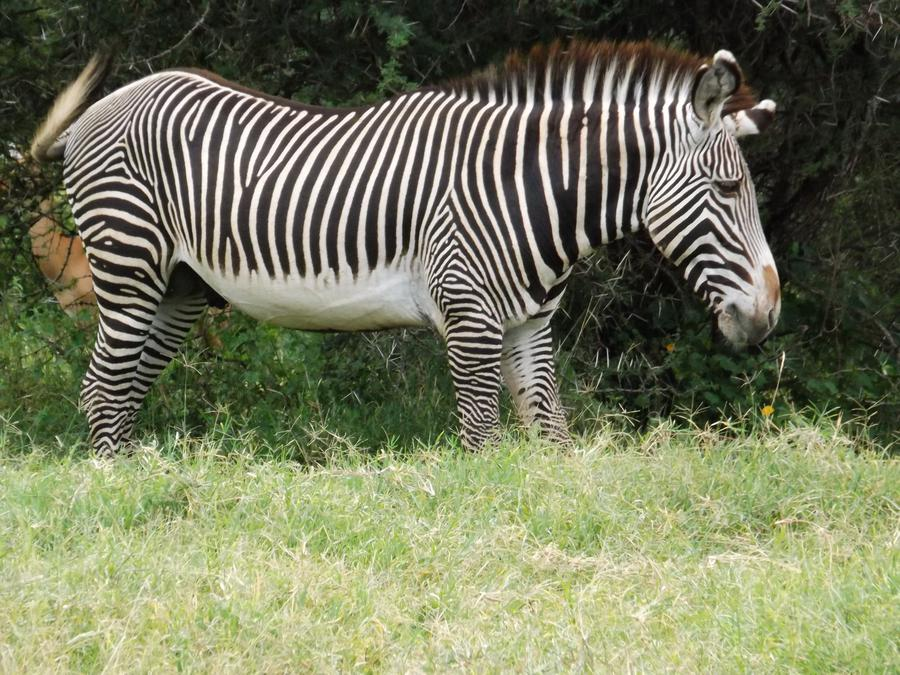zebra_grevys: (68, 76, 542, 330)
